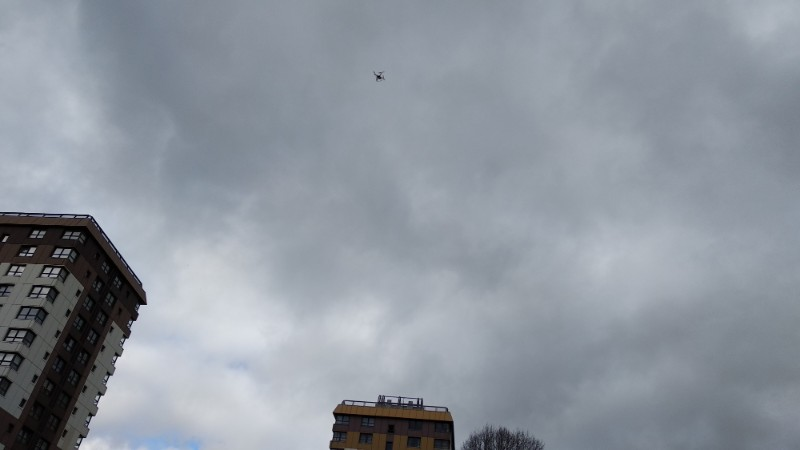drone: (374, 71, 385, 82)
